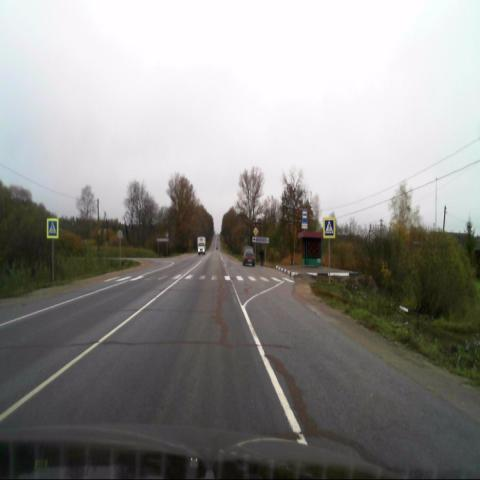5_19_1: (323, 216, 335, 238), (47, 218, 58, 239)
